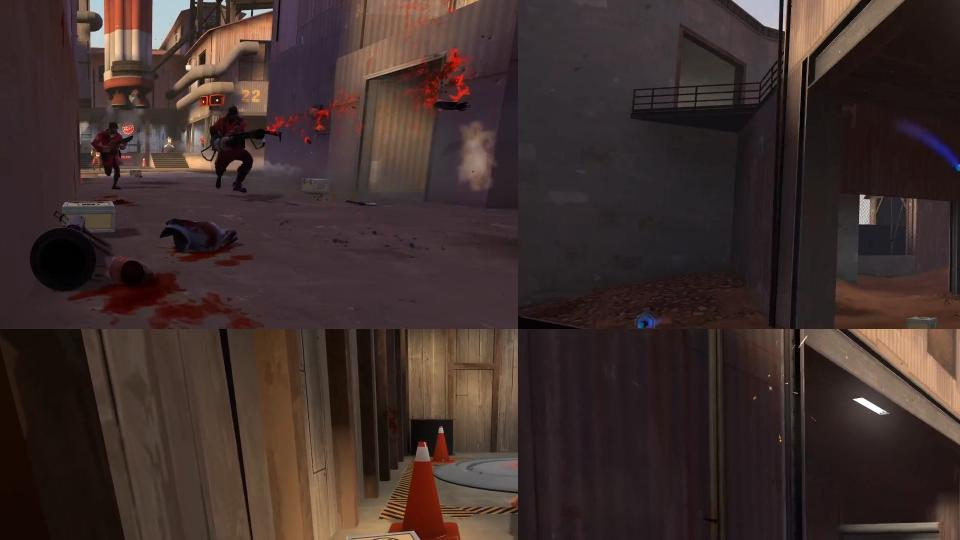Enemy: (201, 105, 266, 195), (91, 121, 133, 188), (91, 147, 102, 170), (164, 136, 175, 153)
